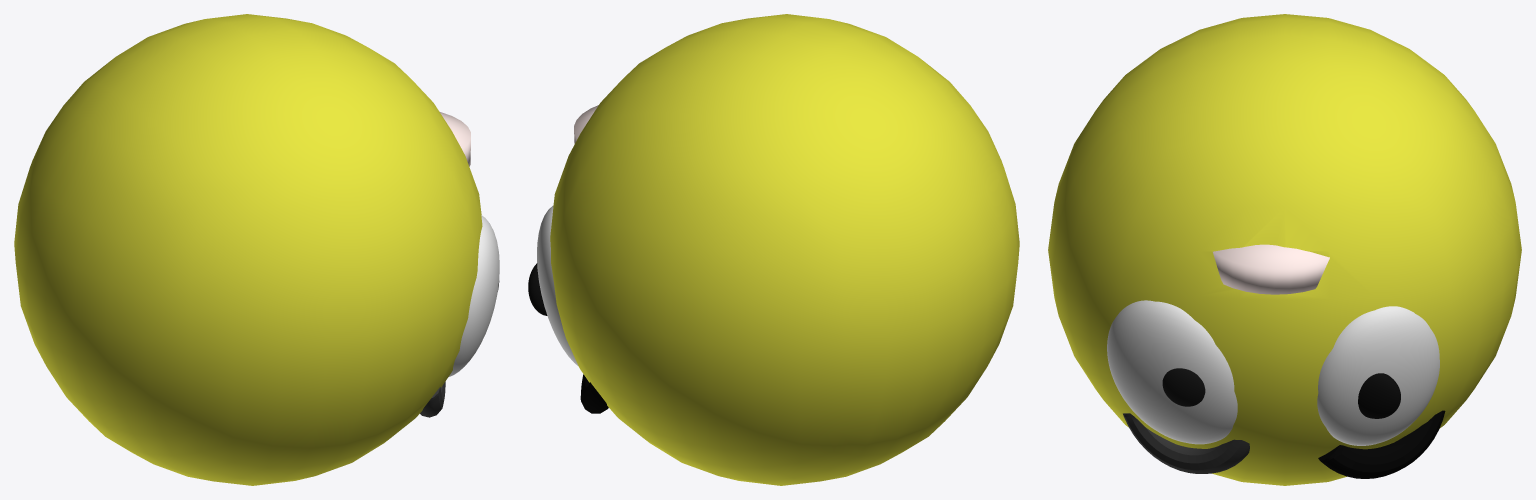
The model's file is surprised_emoji.glb.
3 renders of one model, left to right at view 1: azimuth 30°, elevation 25°; view 2: azimuth 150°, elevation 25°; view 3: azimuth 270°, elevation 25°, orthographic.
Parts seen in each view (by area): view 1: Cube, Sphere.001, Cylinder; view 2: Cube, Sphere, Torus, Sphere.002; view 3: Cube, Sphere.001, Sphere, Cylinder, Torus, Torus.001, Sphere.002, Sphere.003.
Boxes of the visible parts, bbox=[...] form: Cube: bbox=[14, 14, 482, 485]; Sphere.001: bbox=[448, 215, 499, 377]; Cylinder: bbox=[440, 112, 470, 166]; Cube: bbox=[550, 14, 1019, 485]; Sphere: bbox=[537, 206, 578, 366]; Torus: bbox=[580, 374, 608, 413]; Sphere.002: bbox=[528, 263, 547, 315]; Cube: bbox=[1048, 14, 1521, 485]; Sphere.001: bbox=[1107, 300, 1237, 444]; Sphere: bbox=[1317, 306, 1439, 445]; Cylinder: bbox=[1213, 244, 1329, 294]; Torus: bbox=[1318, 410, 1445, 478]; Torus.001: bbox=[1123, 413, 1249, 473]; Sphere.002: bbox=[1358, 373, 1400, 418]; Sphere.003: bbox=[1162, 368, 1205, 406].
Bounding box in the file's own units: 3.97 × 3.95 × 3.95.
